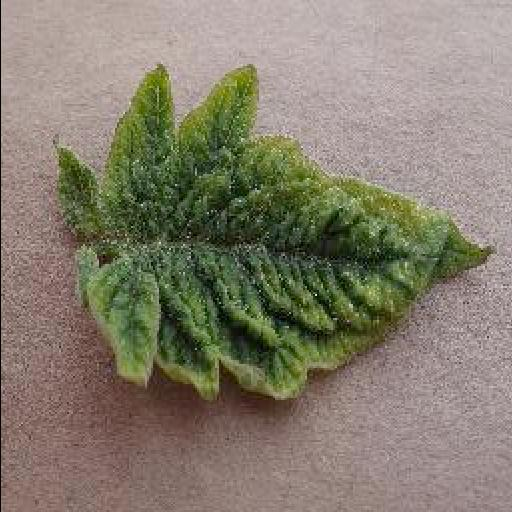disease_tomato: (54, 65, 498, 399)
